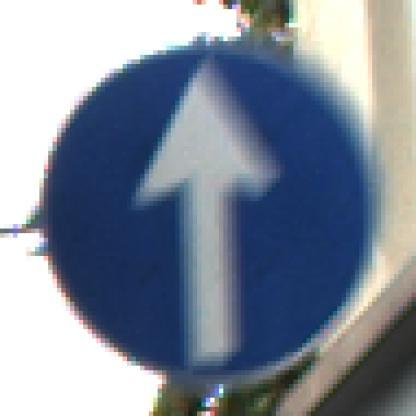straight: (31, 32, 382, 389)
